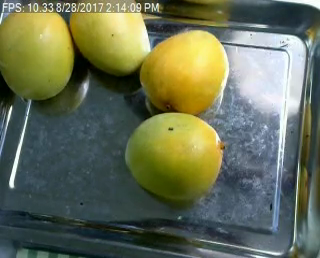Mango: (125, 113, 221, 198), (139, 29, 232, 111), (0, 2, 73, 100), (68, 1, 150, 74)
